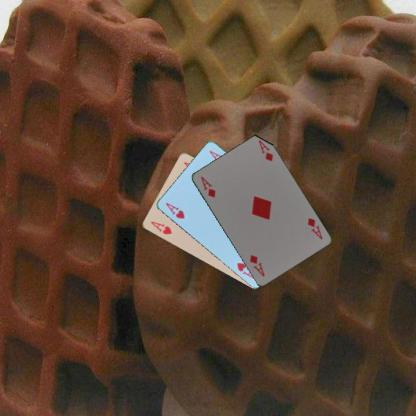Ad: (304, 215, 324, 240), (198, 174, 216, 199)
Ah: (148, 218, 173, 236), (163, 200, 185, 220)
